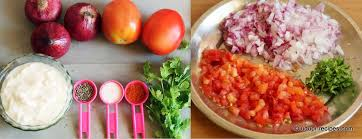onion: (30, 22, 71, 59), (64, 3, 100, 42)
tomato: (142, 7, 186, 54), (100, 1, 143, 46)
